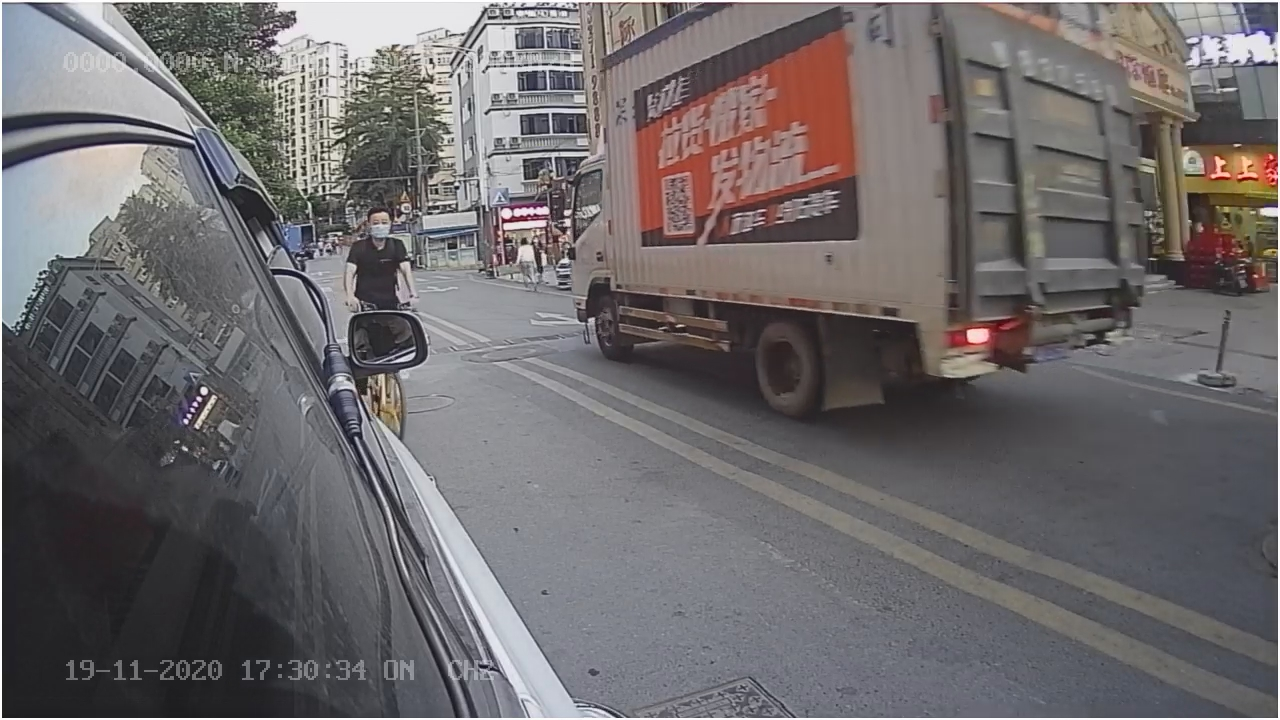person: (340, 207, 420, 303)
